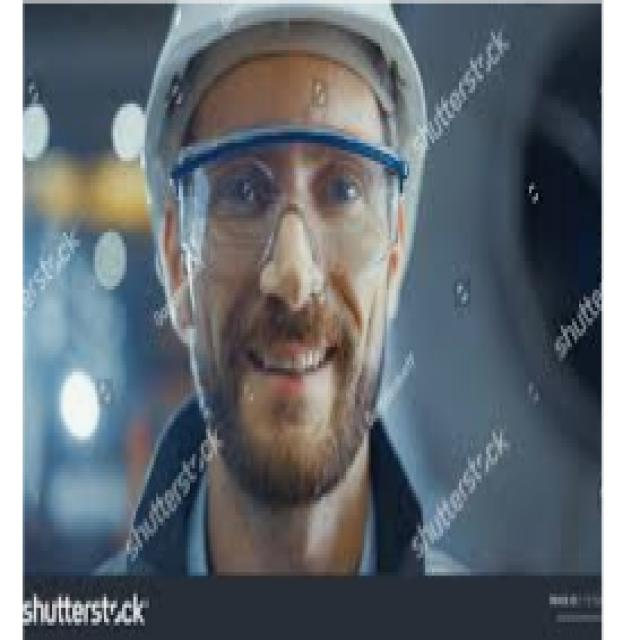glasses: (150, 119, 402, 267)
